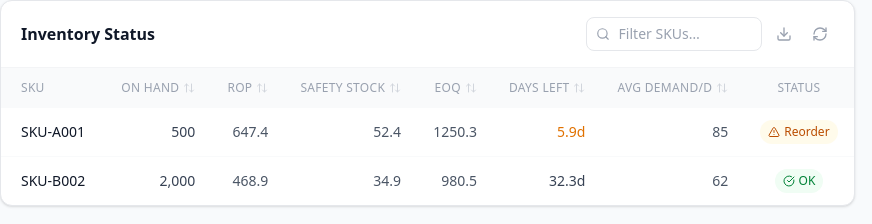
Test: InventoryTable › filters by search term
Expected: the text "SKU-A001" is shown, [1,108,105,156]
Type "B002" into the field with placeholder "Filter SKUs…".
click(674, 34); type("B002")  # box [586,17,762,51]
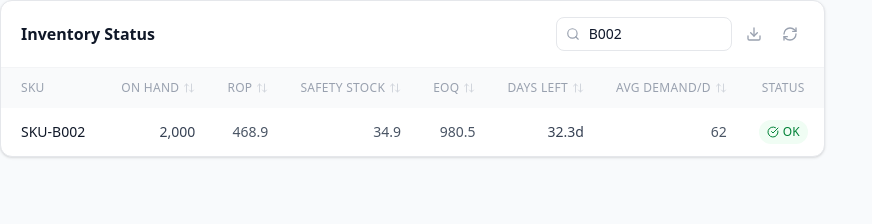
Expected: the text "SKU-B002" is shown, [1,108,105,156]
Result: the text "SKU-A001" is gone
